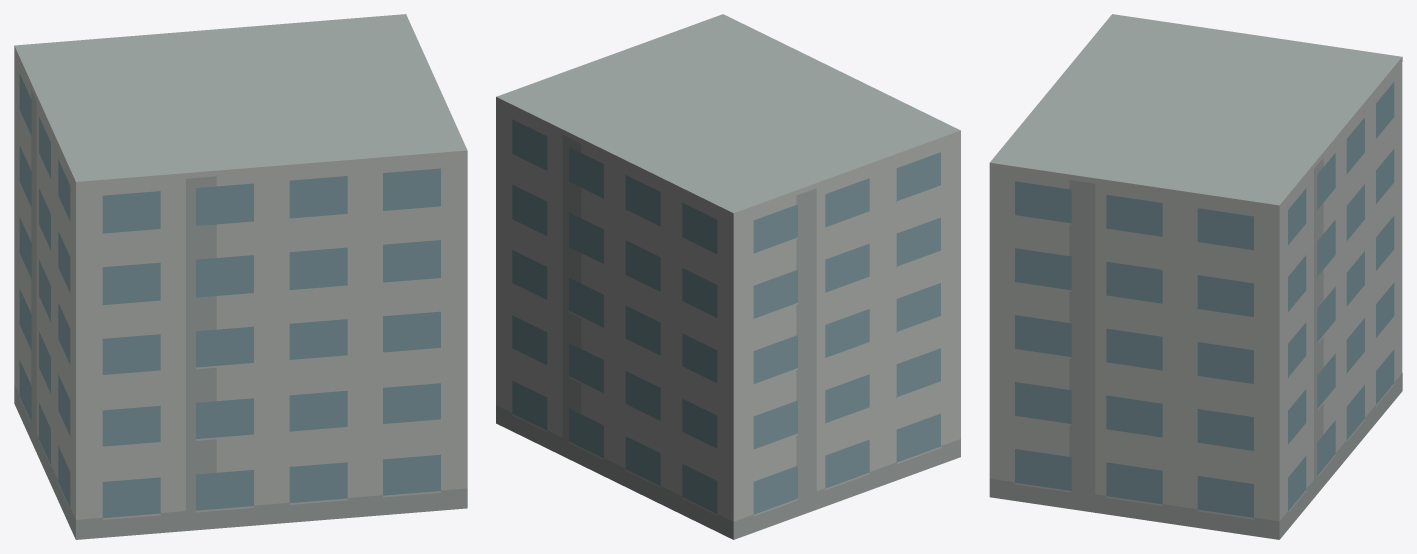
Rendered from residential-361e1bd2-519e-4ab3-bd2a-e21d72451cc7.glb.
3 renders of one model, left to right at view 1: azimuth 30°, elevation 25°; view 2: azimuth 150°, elevation 25°; view 3: azimuth 270°, elevation 25°, orthographic. The views are drawn at different scales.
Visible parts, largest first — view 1: residential-361e1bd2-519e-4ab3-bd2a-e21d72451cc7.tmp; view 2: residential-361e1bd2-519e-4ab3-bd2a-e21d72451cc7.tmp; view 3: residential-361e1bd2-519e-4ab3-bd2a-e21d72451cc7.tmp.
Boxes of the visible parts, x1,y1,x2,y2 form: residential-361e1bd2-519e-4ab3-bd2a-e21d72451cc7.tmp: (14,14,467,539); residential-361e1bd2-519e-4ab3-bd2a-e21d72451cc7.tmp: (496,14,960,539); residential-361e1bd2-519e-4ab3-bd2a-e21d72451cc7.tmp: (989,14,1402,539).
Size of the model in its own units: 18.72 by 15.25 by 17.07.
